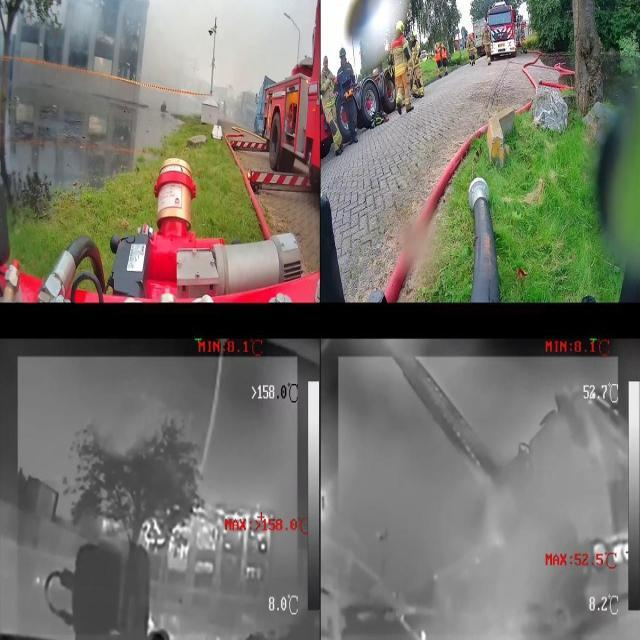Fire: (95, 55, 104, 67)
Smoke: (23, 0, 100, 49)
